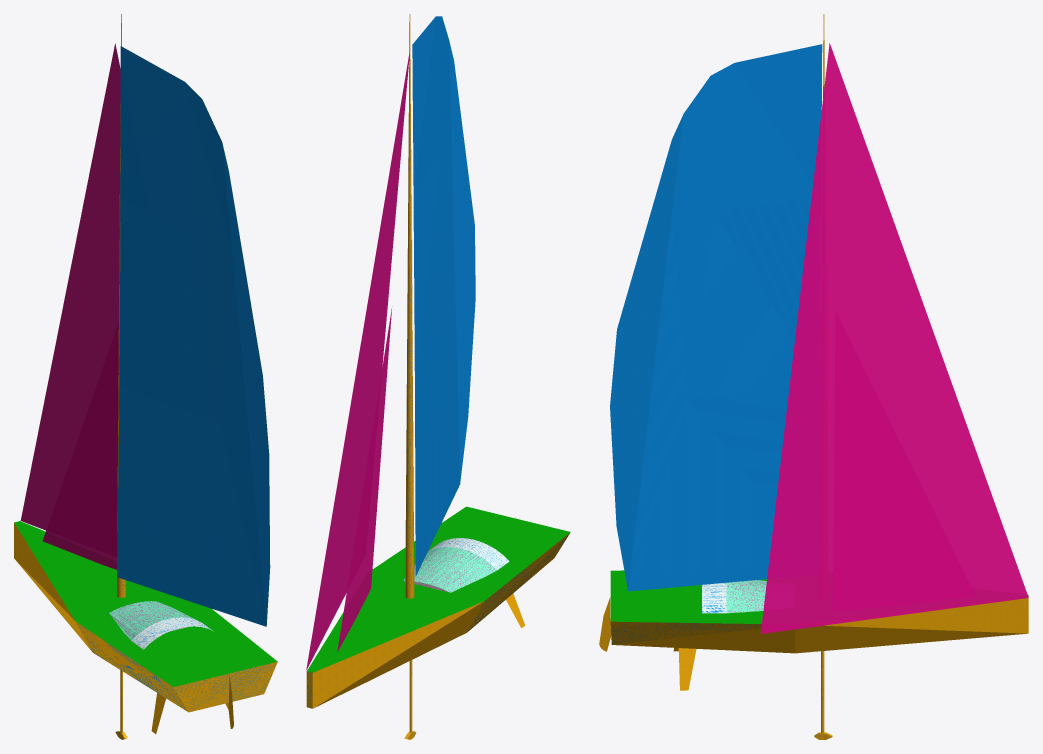
The model's file is genois_babord_monocoque.dae.
3 renders of one model, left to right at view 1: azimuth 30°, elevation 25°; view 2: azimuth 150°, elevation 25°; view 3: azimuth 270°, elevation 25°, orthographic.
Parts seen in each view (by area): view 1: SketchUp (×9); view 2: SketchUp (×9); view 3: SketchUp (×7).
Boxes of the visible parts, x1,y1,x2,y2 form: SketchUp (×9): (14, 14, 277, 712); SketchUp (×9): (306, 14, 570, 708); SketchUp (×7): (610, 43, 1028, 653).
Bounding box in the file's own units: 26625 × 72816 × 135626.
